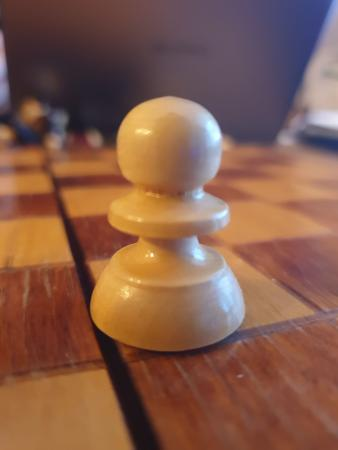wpawn: (89, 96, 246, 353)
